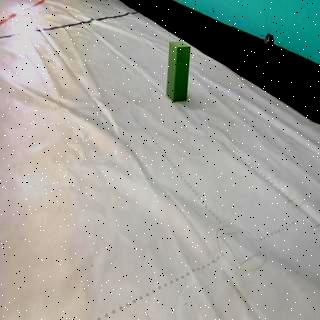greenbox: (165, 41, 192, 102)
